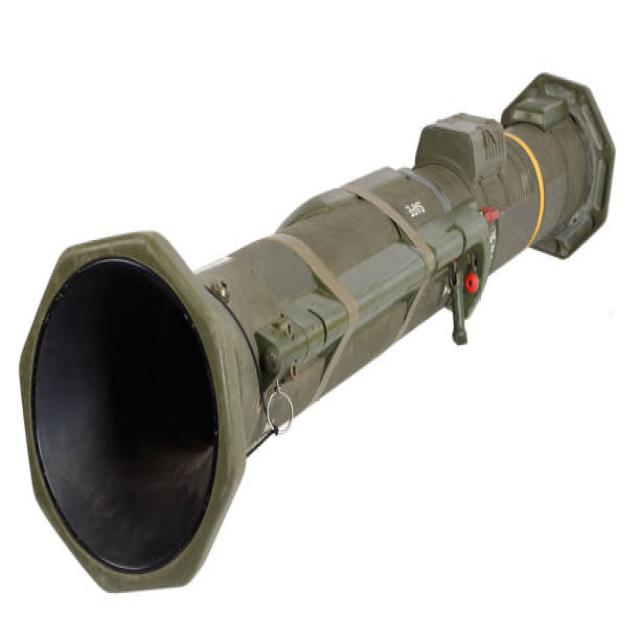bazooka: (15, 64, 622, 604)
